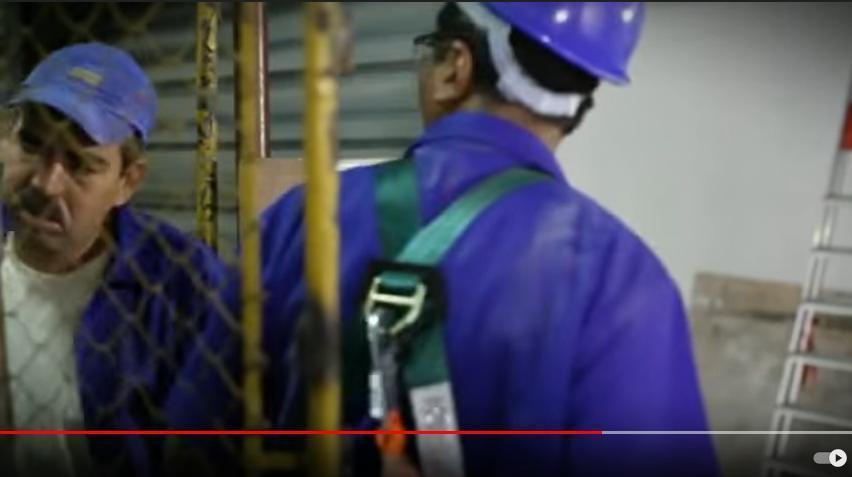Ear-protection: (0, 33, 203, 433)
